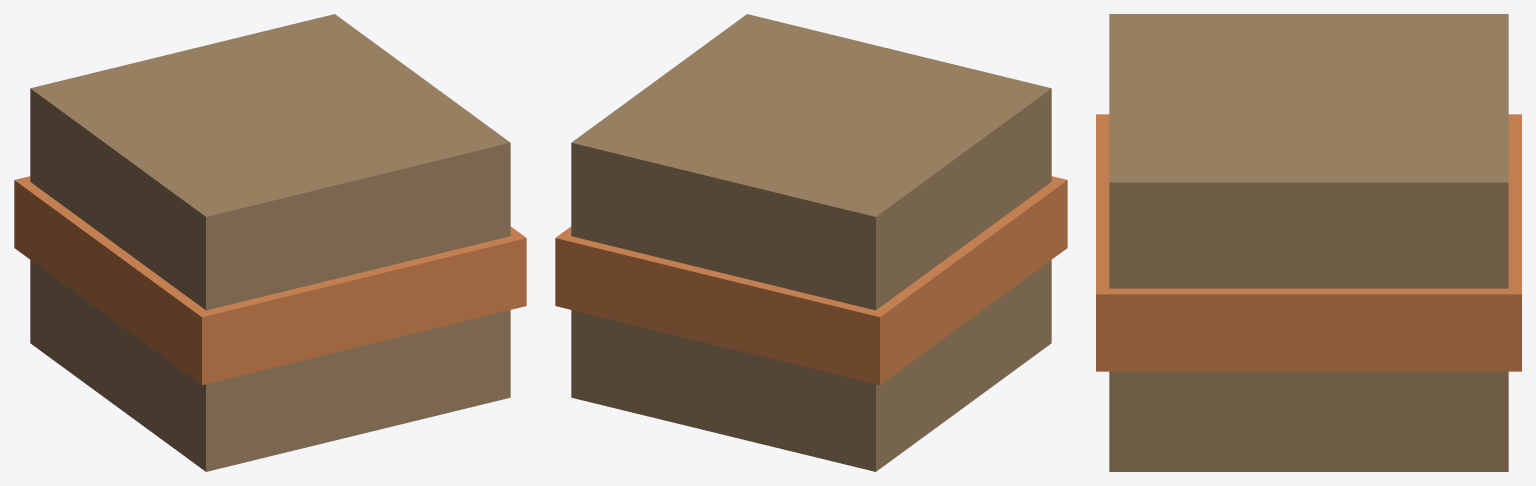
The model's file is caixa-referencia.glb.
3 views of the same model, side by side, from view 1: azimuth 30°, elevation 25°; view 2: azimuth 150°, elevation 25°; view 3: azimuth 270°, elevation 25° (orthographic). The views are drawn at different scales.
Visible parts, largest first — view 1: caixa-1, caixa-2; view 2: caixa-1, caixa-2; view 3: caixa-1, caixa-2.
Boxes of the visible parts, x1,y1,x2,y2 form: caixa-1: (30,14,510,471); caixa-2: (14,176,526,384); caixa-1: (571,14,1051,471); caixa-2: (555,176,1067,384); caixa-1: (1109,14,1508,471); caixa-2: (1096,114,1521,371).
Bounding box in the file's own units: 0.8 × 0.6 × 0.8.
